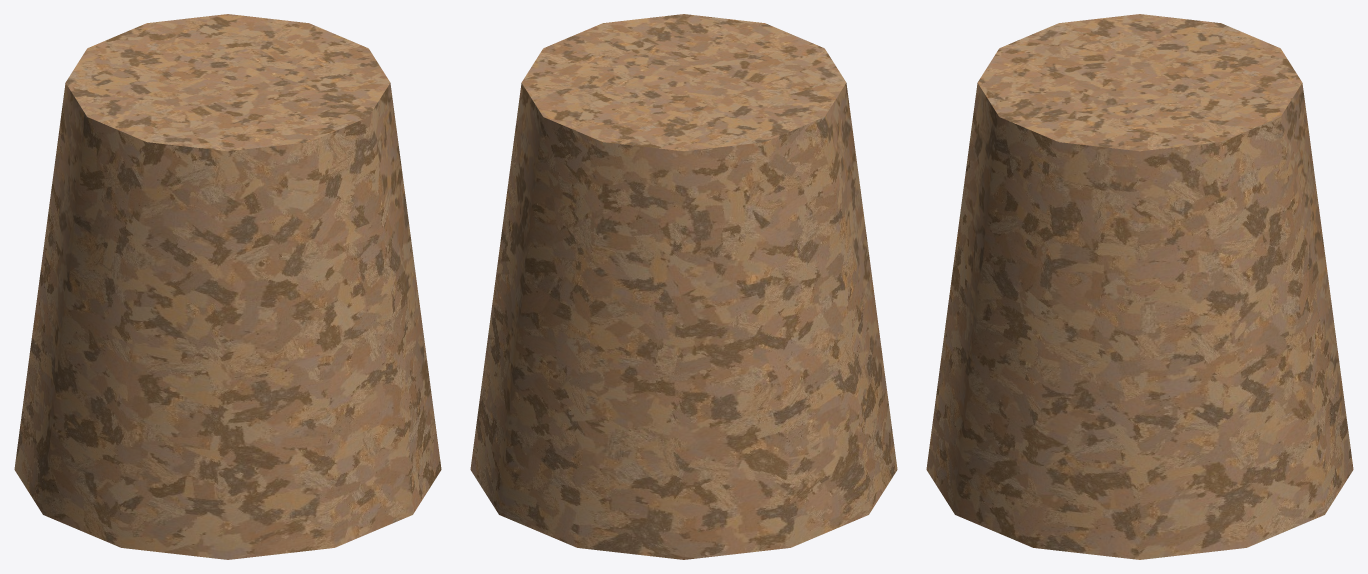
File: cork_1.fbx
3 renders of one model, left to right at view 1: azimuth 30°, elevation 25°; view 2: azimuth 150°, elevation 25°; view 3: azimuth 270°, elevation 25°, orthographic.
Parts seen in each view (by area): view 1: 円柱; view 2: 円柱; view 3: 円柱.
Part boxes in pixels (x1=…): 円柱: x1=14, y1=14, x2=441, y2=559; 円柱: x1=470, y1=14, x2=897, y2=559; 円柱: x1=926, y1=14, x2=1353, y2=559.
Bounding box in the file's own units: 6.55 × 6.55 × 6.55.
Materials: 1 (1 with a texture image).
